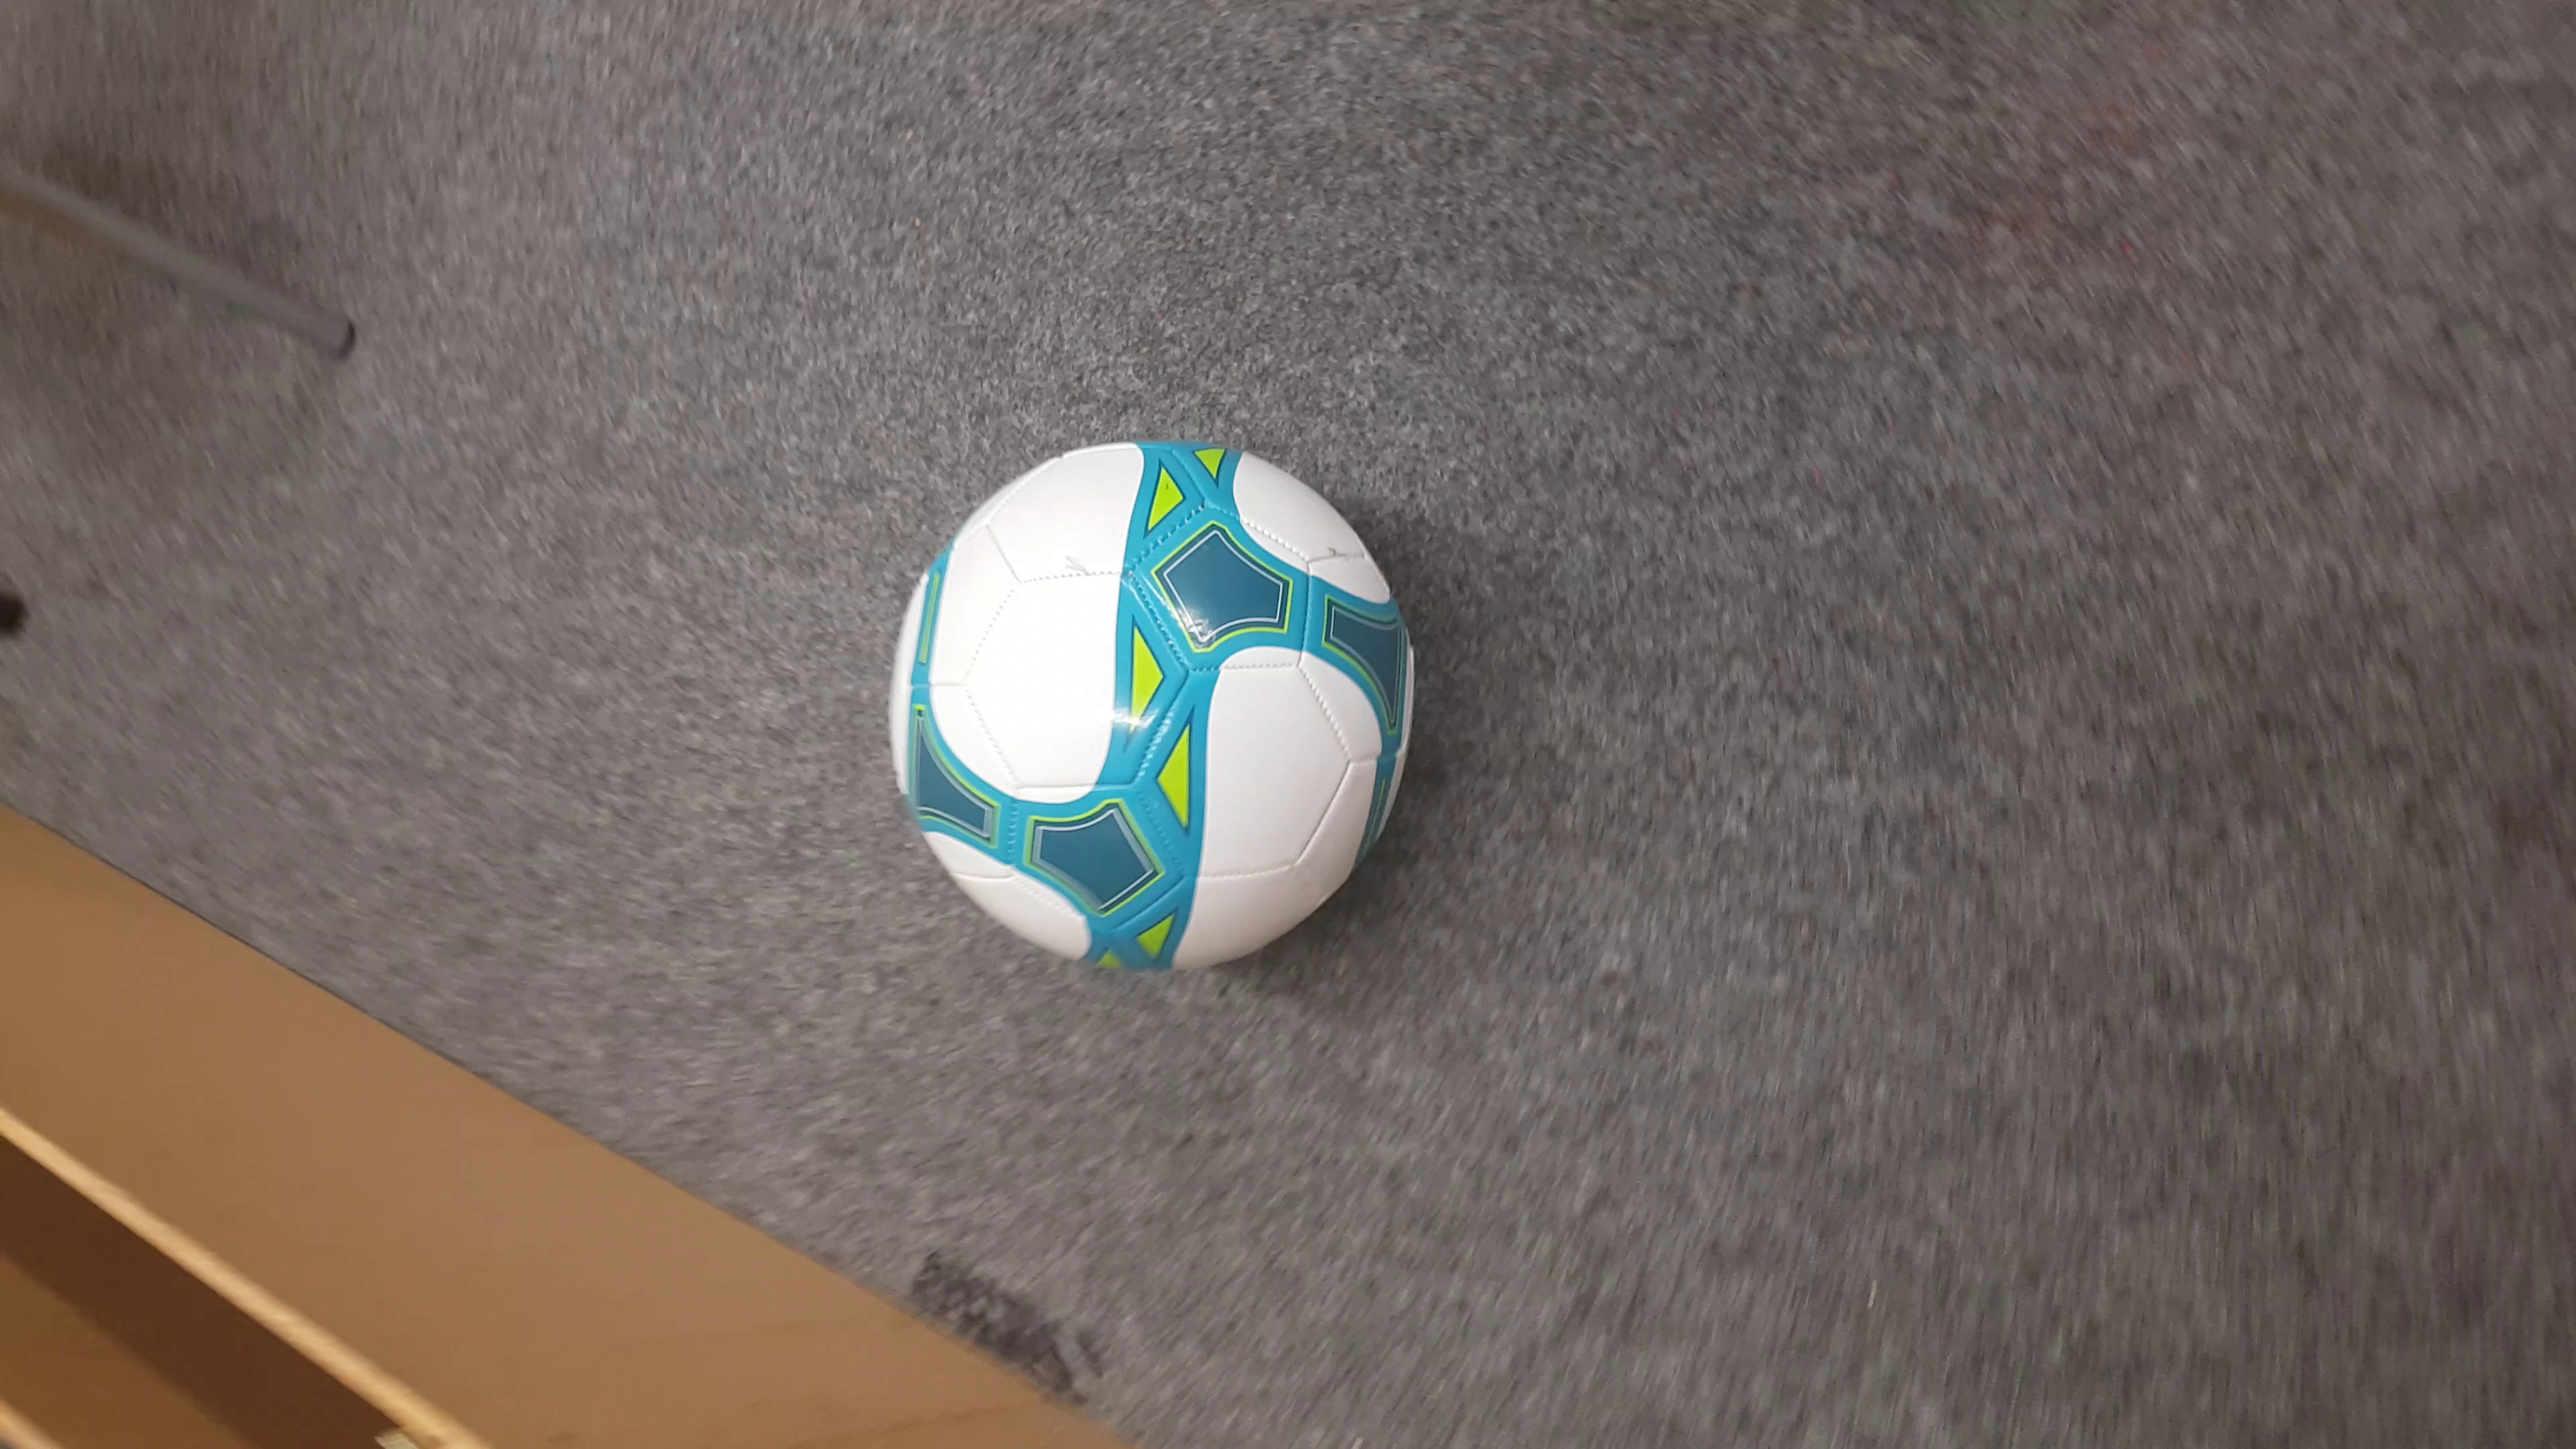kick: (892, 435, 1424, 970)
